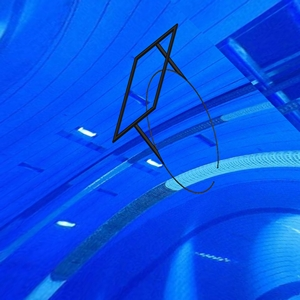circle: (110, 22, 221, 194)
